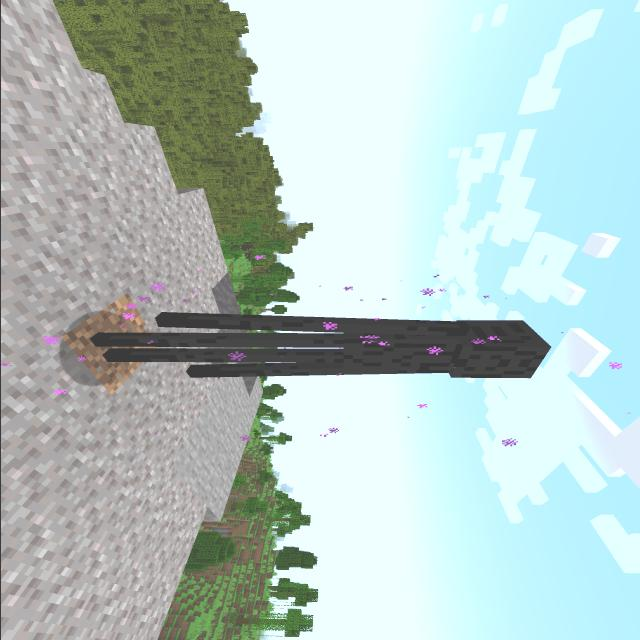Enderman: (78, 305, 566, 390)
